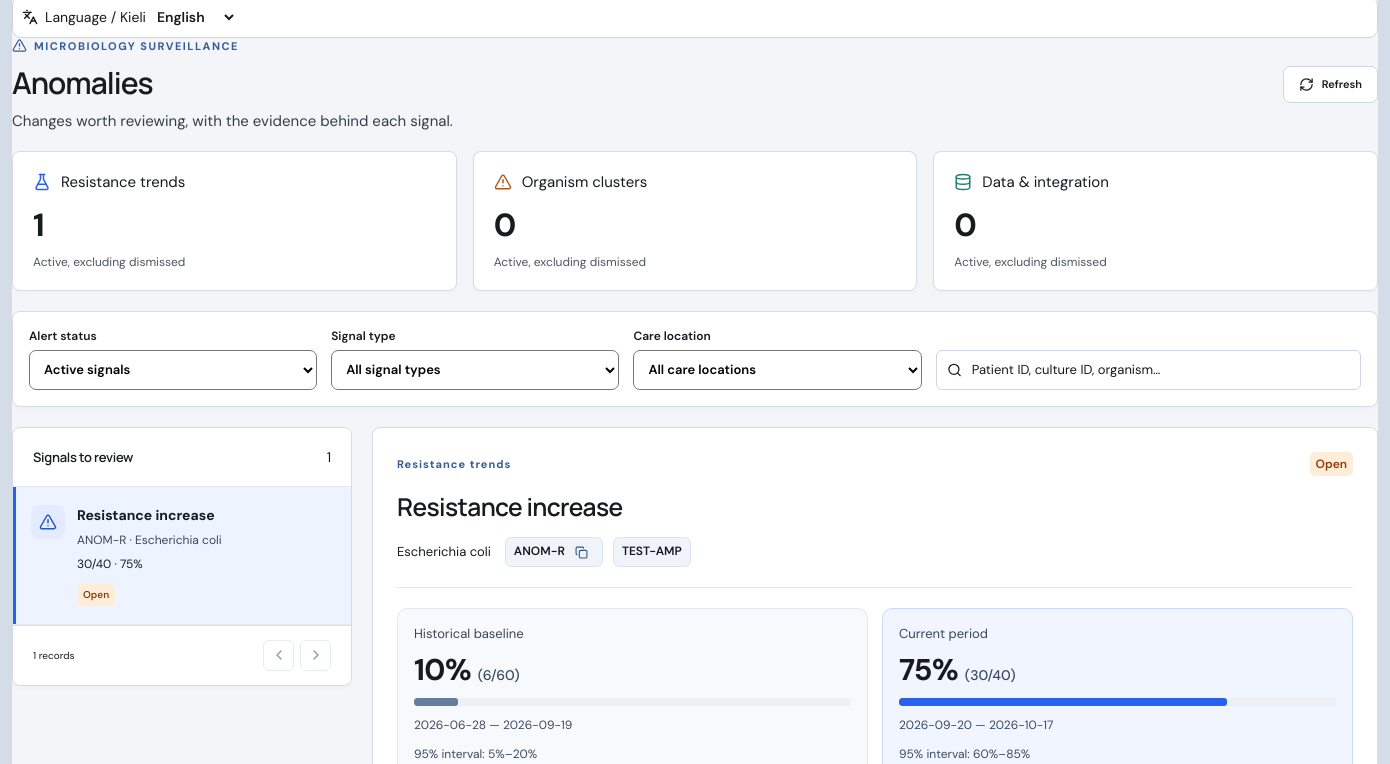
Scenario: anomaly review workspace › translates controls to Finnish while preserving organism names and source IDs
Check: the heading "Resistance increase" is shown, box [397,490,622,523]
Select "Suomi" in the dropdown labelled "Language / Kieli" at coordinates (195, 17), box [153,3,237,31]
(page scrolled)
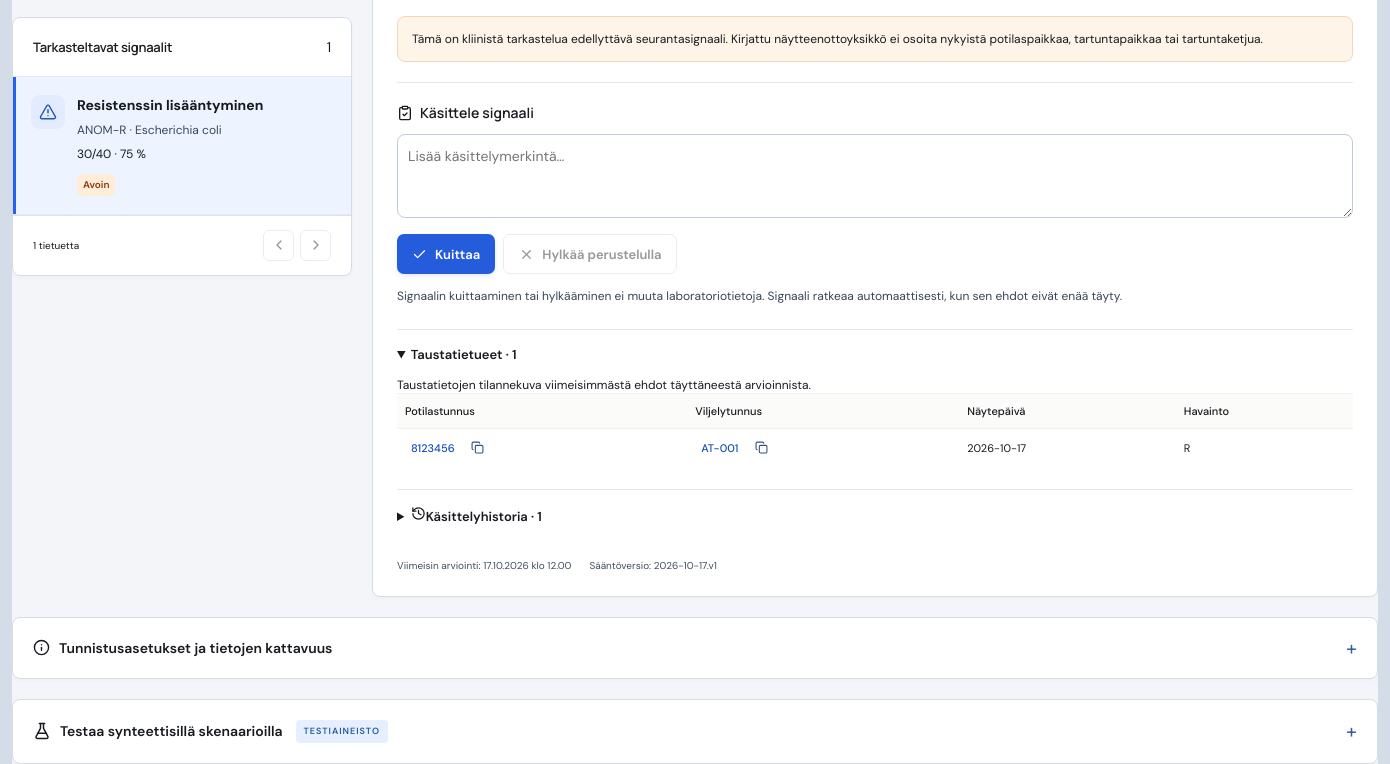
Check: the button "8123456" is shown, box [405,440,461,456]
Check: the button "Kuittaa" is shown, box [397,234,495,274]
